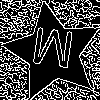M: (28, 27, 76, 78)
